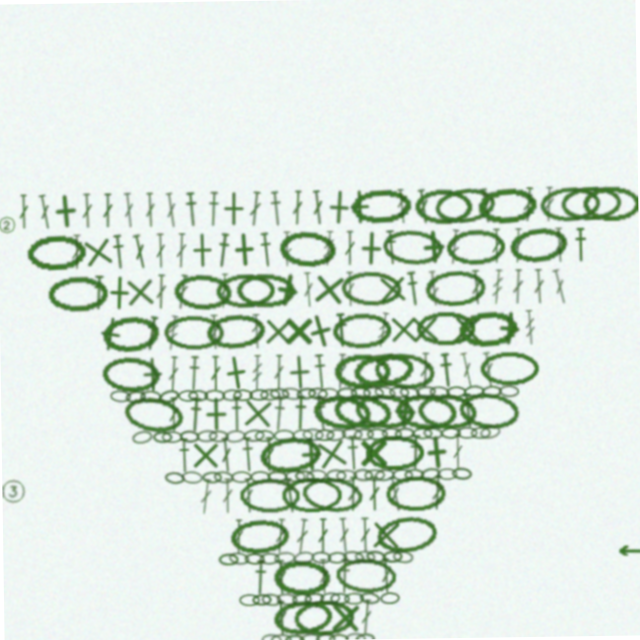chain: (120, 390, 184, 435), (330, 391, 393, 434), (456, 392, 520, 434), (298, 474, 361, 516), (372, 351, 435, 393), (435, 187, 498, 229), (310, 392, 372, 434), (372, 515, 435, 556), (351, 351, 414, 392), (256, 434, 320, 474), (382, 229, 446, 269), (352, 392, 414, 433), (509, 228, 571, 269), (393, 393, 456, 433), (415, 393, 476, 433), (268, 598, 330, 637), (331, 557, 393, 596), (205, 311, 267, 350), (101, 311, 161, 351), (100, 352, 161, 391), (226, 517, 288, 555), (279, 229, 339, 268), (457, 312, 518, 350), (173, 271, 234, 309), (425, 271, 486, 309), (478, 189, 539, 227), (541, 189, 602, 227), (289, 599, 350, 636), (341, 271, 402, 308), (352, 189, 413, 226), (562, 189, 623, 226), (163, 313, 225, 349), (27, 230, 87, 267), (236, 272, 297, 308), (237, 477, 297, 513), (48, 272, 108, 308), (383, 477, 444, 512), (269, 559, 328, 595), (332, 313, 391, 349), (216, 272, 275, 308), (447, 231, 506, 267), (416, 190, 475, 226), (279, 477, 339, 512), (363, 436, 422, 471), (479, 354, 538, 389), (416, 313, 475, 348), (333, 354, 391, 389), (584, 190, 640, 225), (157, 386, 179, 402), (339, 550, 361, 565), (280, 386, 302, 401), (373, 386, 395, 401), (225, 550, 246, 565), (290, 550, 311, 565), (362, 550, 383, 565), (418, 468, 439, 483), (130, 427, 151, 442), (478, 427, 499, 442), (272, 592, 294, 606), (316, 387, 338, 401), (257, 592, 278, 606), (355, 592, 376, 606), (389, 551, 410, 565), (162, 469, 183, 483), (211, 469, 232, 483), (292, 469, 313, 483), (372, 469, 393, 483), (223, 428, 244, 442), (324, 428, 345, 442), (421, 428, 442, 442), (124, 387, 145, 401), (398, 387, 419, 401), (428, 387, 449, 401), (270, 551, 292, 564), (179, 469, 201, 482), (300, 592, 321, 605), (351, 551, 372, 564), (449, 469, 470, 482), (195, 428, 216, 441), (242, 428, 263, 441), (301, 428, 322, 441), (340, 428, 361, 441), (109, 387, 130, 400), (268, 387, 289, 400), (295, 387, 316, 400), (349, 387, 370, 400), (362, 387, 383, 400), (316, 592, 336, 605), (308, 551, 328, 564), (379, 551, 399, 564), (304, 469, 324, 482), (324, 469, 344, 482), (351, 469, 371, 482), (178, 428, 198, 441), (380, 428, 400, 441), (393, 428, 413, 441), (307, 387, 327, 400), (336, 387, 356, 400), (388, 387, 408, 400), (415, 387, 435, 400), (463, 387, 483, 400), (235, 593, 256, 605), (334, 470, 355, 482), (362, 470, 383, 482), (390, 470, 411, 482), (160, 429, 181, 441), (272, 429, 293, 441), (365, 429, 386, 441), (455, 429, 476, 441), (139, 388, 160, 400), (203, 388, 224, 400), (248, 593, 268, 605), (288, 593, 308, 605), (326, 593, 346, 605), (340, 593, 360, 605), (376, 593, 396, 605), (215, 552, 235, 564), (241, 552, 261, 564), (256, 552, 276, 564), (324, 552, 344, 564), (200, 470, 220, 482), (229, 470, 249, 482), (248, 470, 268, 482), (265, 470, 285, 482), (283, 470, 303, 482), (402, 470, 422, 482), (435, 470, 455, 482), (151, 429, 171, 441), (207, 429, 227, 441), (253, 429, 273, 441), (291, 429, 311, 441), (313, 429, 333, 441), (352, 429, 372, 441), (411, 429, 431, 441), (439, 429, 459, 441), (469, 429, 489, 441), (177, 388, 197, 400), (187, 388, 207, 400), (221, 388, 241, 400), (232, 388, 252, 400), (248, 388, 268, 400), (259, 388, 279, 400), (445, 388, 465, 400), (481, 388, 501, 400), (498, 388, 518, 400), (294, 632, 316, 640), (266, 633, 287, 640), (350, 633, 371, 640), (257, 633, 277, 640), (311, 633, 331, 640), (341, 633, 361, 640), (280, 634, 300, 640), (324, 634, 344, 640)
double: (551, 272, 570, 308), (384, 477, 402, 513), (132, 231, 150, 267), (458, 354, 475, 390), (38, 190, 55, 226), (291, 518, 307, 554), (480, 354, 496, 390), (175, 272, 191, 308), (165, 190, 181, 226), (249, 190, 265, 226), (417, 190, 433, 226), (196, 477, 211, 513), (480, 190, 495, 226), (333, 354, 348, 389), (123, 190, 138, 225), (312, 190, 327, 225), (355, 600, 369, 635), (334, 518, 348, 553), (428, 477, 442, 512), (470, 272, 484, 307), (523, 190, 537, 225), (271, 600, 284, 635), (271, 559, 284, 594), (376, 559, 389, 594), (271, 518, 284, 553), (344, 477, 357, 512), (218, 436, 231, 471), (166, 354, 179, 389), (418, 354, 431, 389), (208, 313, 221, 348), (155, 272, 168, 307), (218, 272, 231, 307), (512, 272, 525, 307), (533, 272, 546, 307), (176, 231, 189, 266), (554, 231, 567, 266), (544, 190, 557, 225), (314, 559, 326, 594), (314, 518, 326, 553), (356, 518, 368, 553), (219, 477, 231, 512), (240, 477, 252, 512), (366, 477, 378, 512), (261, 436, 273, 471), (450, 436, 462, 471), (209, 354, 221, 389), (272, 354, 284, 389), (303, 272, 315, 307), (72, 231, 84, 266), (345, 231, 357, 266), (513, 231, 525, 266), (83, 190, 95, 225), (146, 190, 158, 225), (293, 190, 305, 225), (230, 518, 241, 553), (167, 395, 178, 430), (345, 272, 356, 307), (156, 231, 167, 266), (492, 231, 503, 266), (20, 190, 31, 225), (104, 190, 115, 225)
half_double: (310, 395, 329, 431), (143, 313, 161, 349), (279, 477, 296, 513), (437, 354, 454, 390), (405, 272, 422, 308), (216, 231, 233, 267), (186, 395, 202, 431), (270, 395, 286, 431), (459, 395, 475, 431), (112, 231, 128, 267), (259, 231, 275, 267), (270, 190, 286, 226), (238, 436, 254, 471), (333, 313, 349, 348), (249, 559, 264, 594), (406, 436, 421, 471), (186, 354, 201, 389), (312, 354, 327, 389), (385, 231, 400, 266), (186, 190, 201, 225), (334, 559, 348, 594), (344, 436, 358, 471), (292, 395, 306, 430), (92, 272, 106, 307), (208, 190, 222, 225), (176, 436, 189, 471), (229, 395, 242, 430), (575, 231, 588, 266)
noise: (0, 473, 25, 501), (0, 210, 19, 231), (613, 550, 639, 560)
single: (299, 310, 341, 352), (267, 269, 308, 310), (310, 434, 350, 474), (90, 311, 130, 351), (79, 229, 119, 269), (216, 352, 255, 391), (310, 270, 349, 309), (416, 435, 454, 473), (385, 394, 423, 432), (490, 312, 528, 350), (238, 394, 275, 431), (122, 271, 159, 308), (227, 230, 264, 267), (416, 230, 453, 267), (49, 189, 86, 226), (322, 189, 359, 226), (323, 600, 359, 636), (365, 518, 401, 554), (291, 436, 327, 472), (134, 354, 170, 390), (281, 354, 317, 390), (260, 313, 296, 349), (407, 313, 443, 349), (449, 313, 485, 349), (102, 272, 138, 308), (375, 272, 411, 308), (354, 231, 390, 267), (186, 436, 221, 471), (354, 436, 389, 471), (197, 395, 232, 430), (281, 313, 316, 348), (386, 313, 421, 348), (186, 231, 221, 266), (218, 190, 253, 225), (344, 190, 379, 225)
treble: (164, 313, 181, 349), (375, 313, 391, 349), (427, 272, 442, 308), (448, 231, 463, 267), (322, 231, 337, 266), (523, 313, 537, 348), (491, 272, 505, 307), (250, 354, 263, 389), (250, 313, 263, 348), (397, 190, 410, 225), (282, 231, 294, 266)
